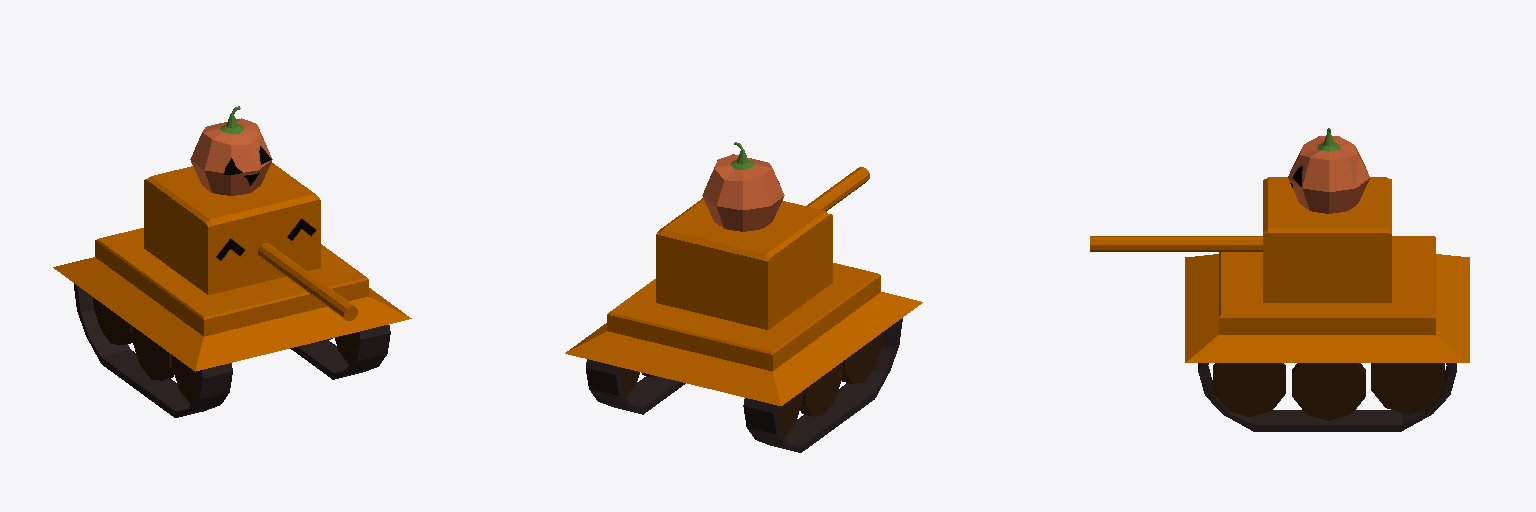
The picture shows the model from 3 angles: view 1: azimuth 30°, elevation 25°; view 2: azimuth 150°, elevation 25°; view 3: azimuth 270°, elevation 25°; orthographic projection.
Parts seen in each view (by area): view 1: tanquecito:pCylinder46; view 2: tanquecito:pCylinder46; view 3: tanquecito:pCylinder46.
Part boxes in pixels (bbox=[...]): tanquecito:pCylinder46: bbox=[53, 106, 411, 417]; tanquecito:pCylinder46: bbox=[565, 142, 922, 452]; tanquecito:pCylinder46: bbox=[1090, 128, 1469, 431].
Bounding box in the file's own units: 5.98 × 6.84 × 9.09.
6 materials, 4 textured.